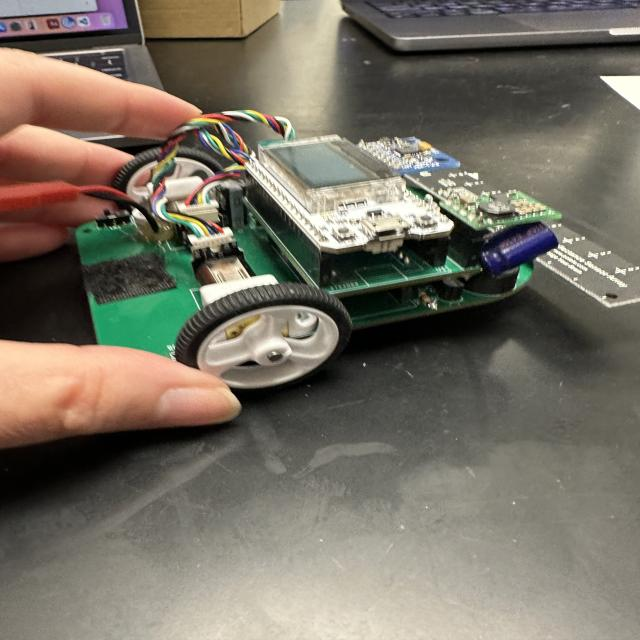robot: (72, 108, 640, 386)
